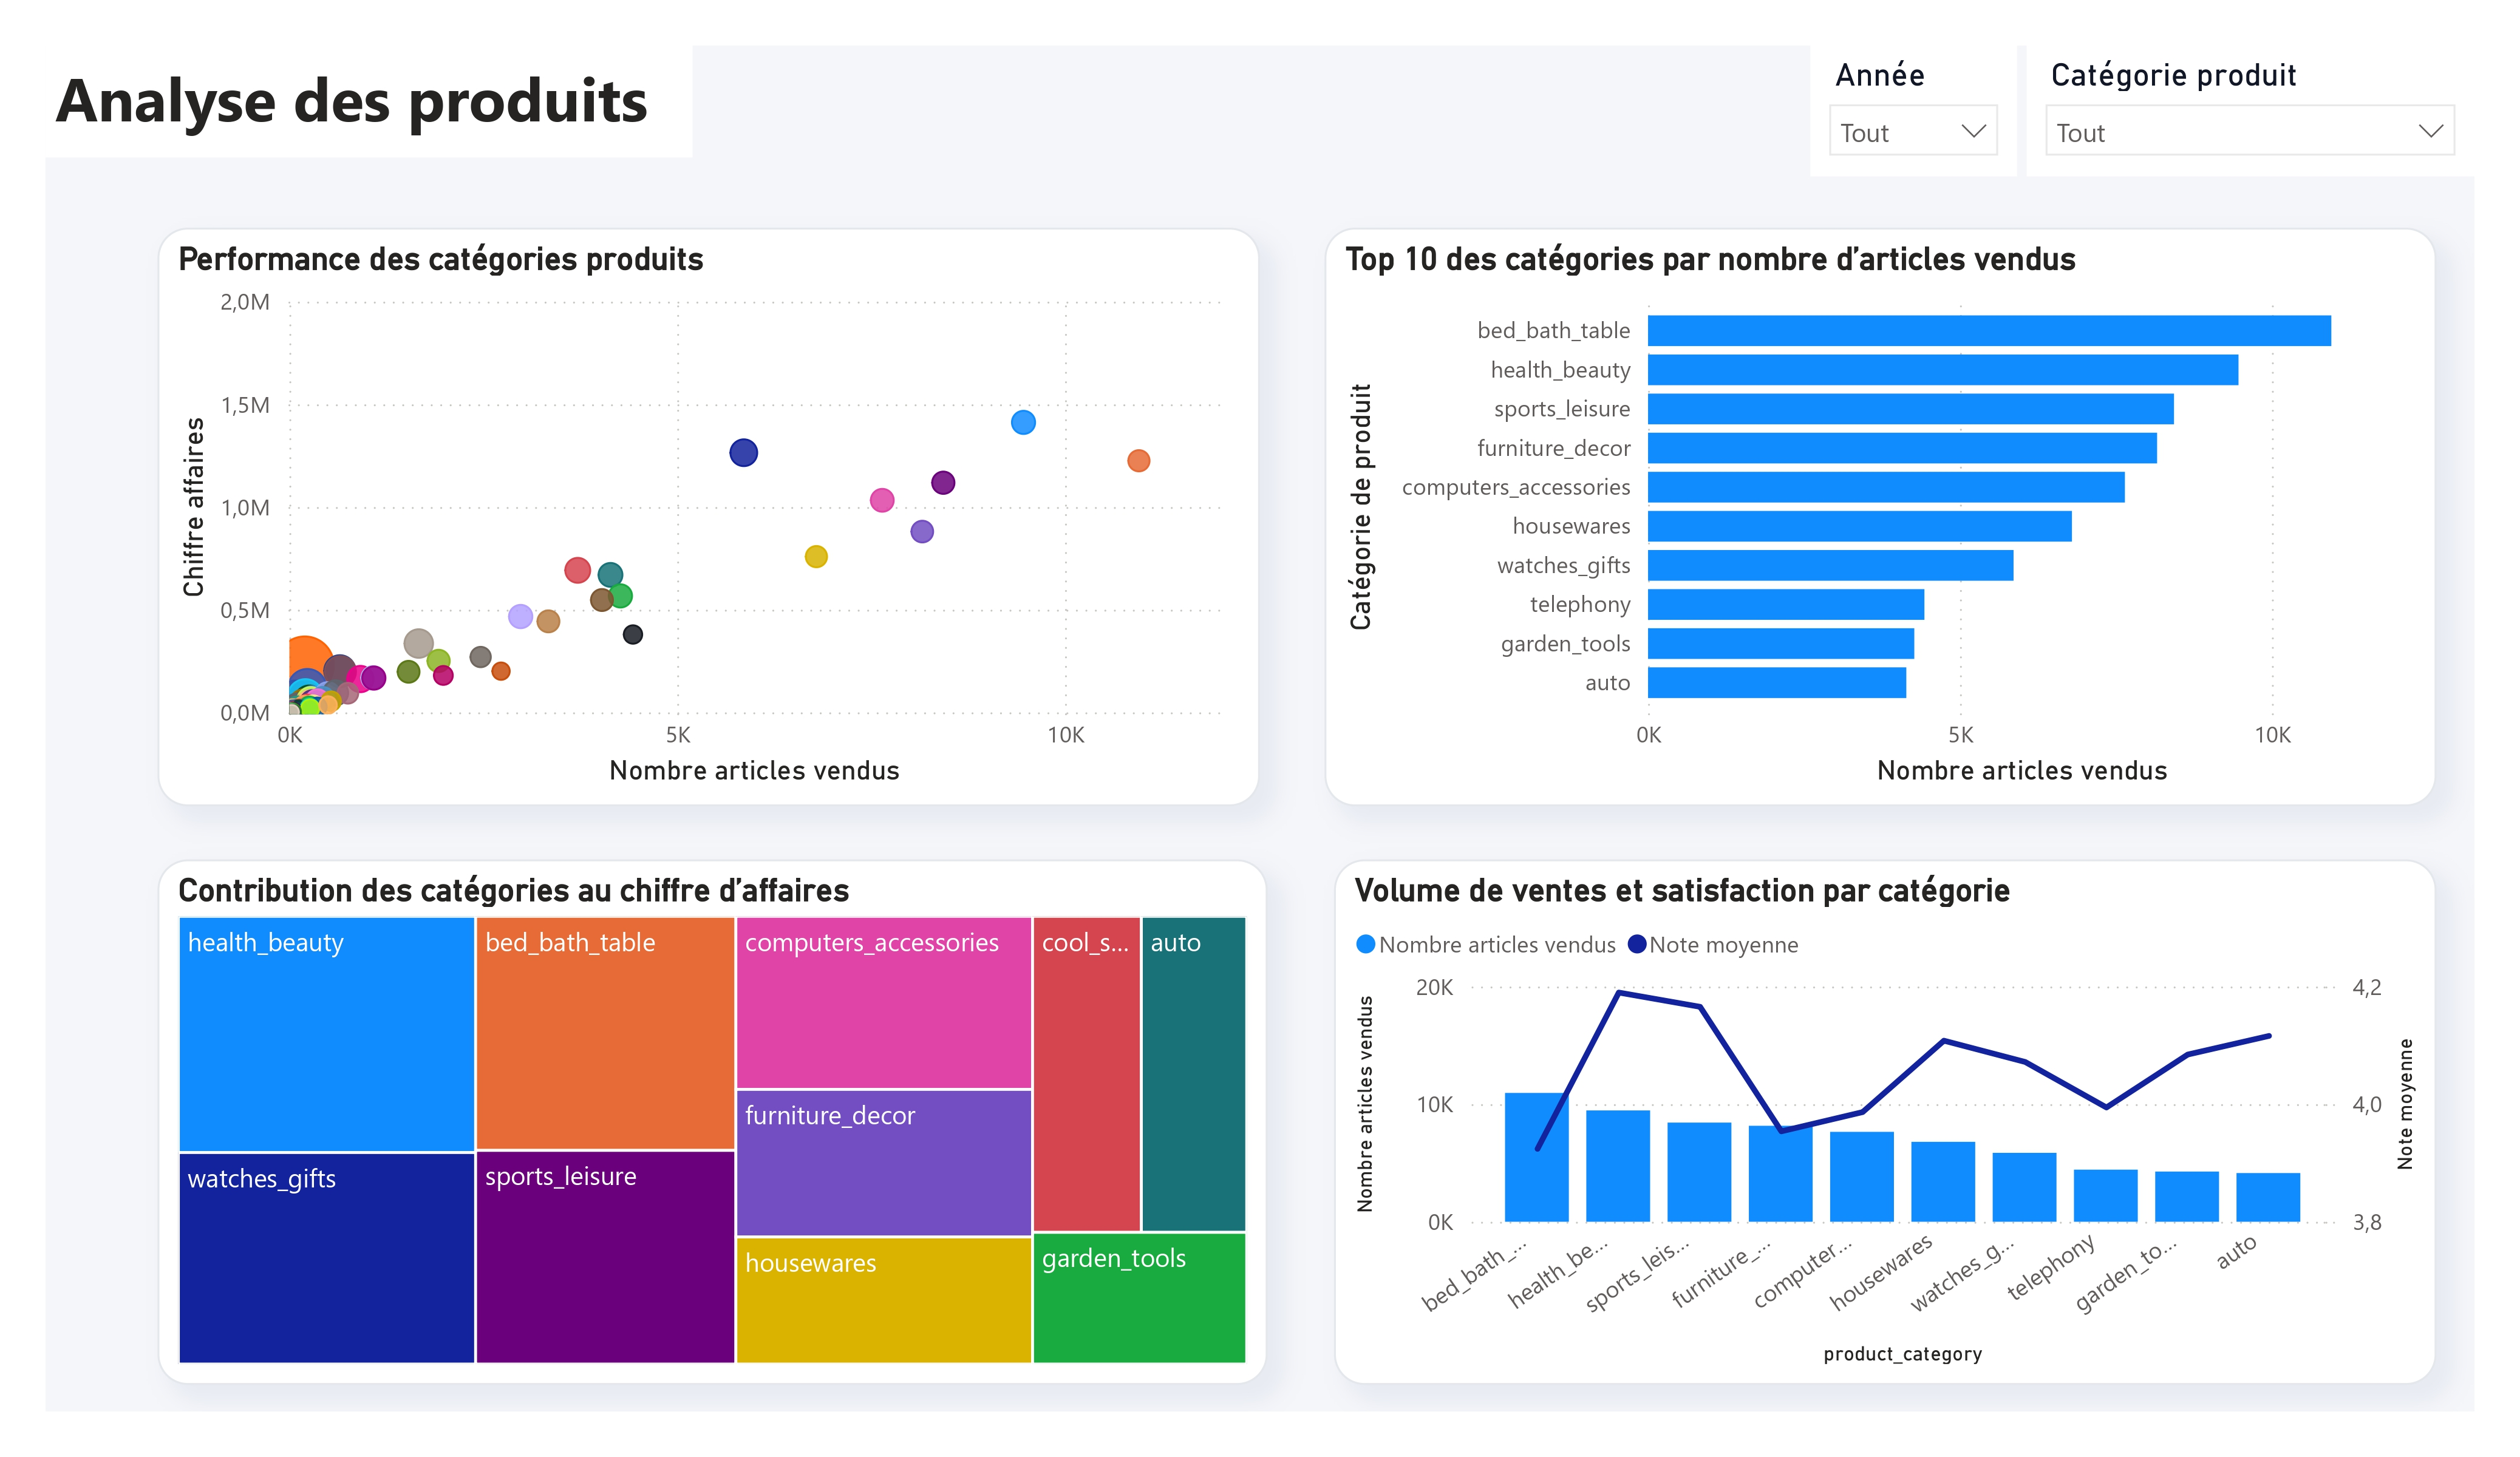

Layout of this report page (visuals, bound fields, positions):
{"tool":"powerbi","page":{"name":"Produits","canvas":[1280,720],"ordinal":2},"visuals":[{"type":"barChart","title":"Top 10 des catégories par nombre d’articles vendus","fields":{"Category":["public dim_product.product_category"],"Y":["public fact_sales.Nombre articles vendus"]},"box":[674.3,95.7,585.7,305.7],"z":0},{"type":"slicer","fields":{"Values":["public dim_product.product_category"]},"box":[1044.3,0,235.7,68.6],"z":1000},{"type":"slicer","fields":{"Values":["public dim_date.year"]},"box":[930,0,108.6,68.6],"z":2000},{"type":"textbox","box":[0,0,341.4,58.6],"z":3000},{"type":"scatterChart","title":"Performance des catégories produits","fields":{"Y":["public fact_sales.Chiffre affaires"],"X":["public fact_sales.Nombre articles vendus"],"Size":["public fact_sales.Panier moyen"],"Series":["public dim_product.product_category"]},"box":[58.6,95.7,581.4,305.7],"z":4000},{"type":"treemap","title":"Contribution des catégories au chiffre d’affaires","fields":{"Group":["public dim_product.product_category"],"Values":["public fact_sales.Chiffre affaires"]},"box":[58.6,428.6,585.7,277.1],"z":5000},{"type":"lineStackedColumnComboChart","title":"Volume de ventes et satisfaction par catégorie","fields":{"Category":["public dim_product.product_category"],"Y":["public fact_sales.Nombre articles vendus"],"Y2":["public fact_sales.Note moyenne"]},"box":[678.6,428.6,581.4,277.1],"z":6000}]}

Visuals, with their boxes on the page's 1280x720 design canvas (x1, y1, x2, y2). These are canvas units, not pixel positions in the 2520x1457 screenshot, which may show the page scaled, cropped or inside an application window:
"Top 10 des catégories par nombre d’articles vendus" barChart: locate(674, 96, 1260, 401)
slicer - public dim_product.product_category: locate(1044, 0, 1280, 69)
slicer - public dim_date.year: locate(930, 0, 1039, 69)
textbox: locate(0, 0, 341, 59)
"Performance des catégories produits" scatterChart: locate(59, 96, 640, 401)
"Contribution des catégories au chiffre d’affaires" treemap: locate(59, 429, 644, 706)
"Volume de ventes et satisfaction par catégorie" lineStackedColumnComboChart: locate(679, 429, 1260, 706)
